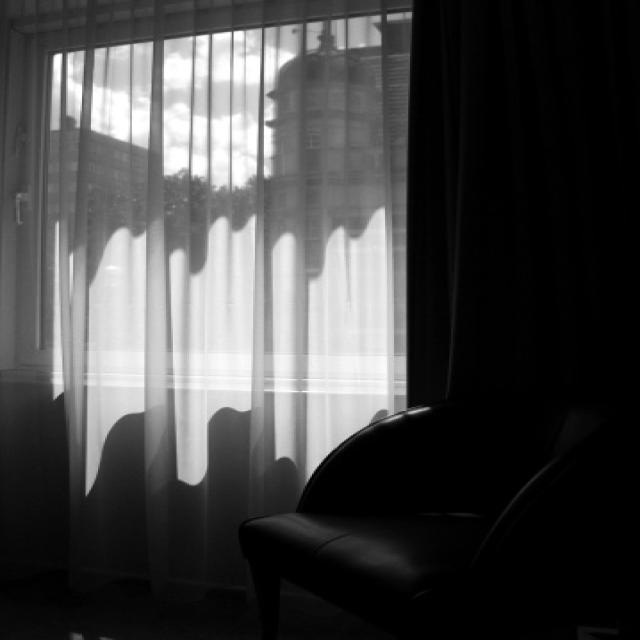chair: (218, 378, 640, 640)
